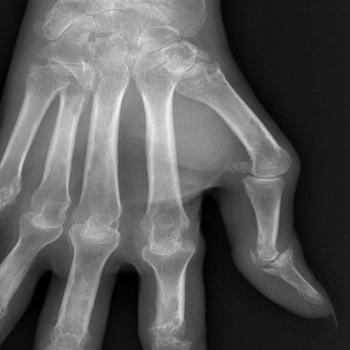Fracture: (247, 243, 302, 280)
